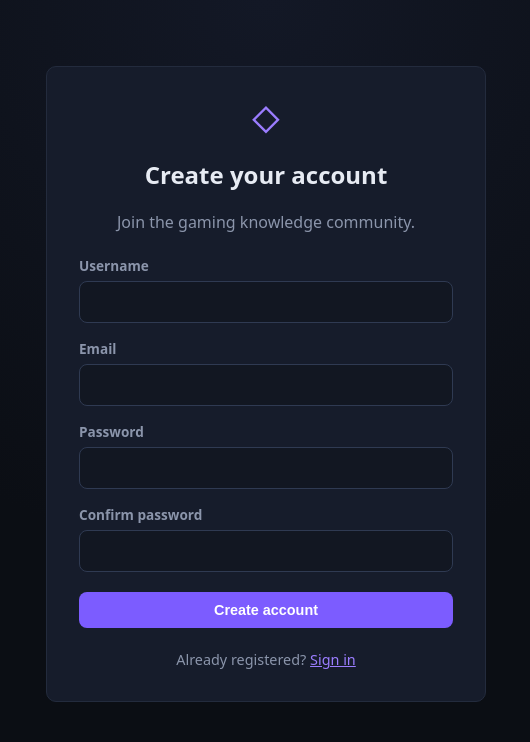
it: AuthPage - Registration Form › should show password mismatch error
Type "password123" into the password field labelled "Password".
click(266, 468); type("password123")  # box [79, 447, 453, 489]
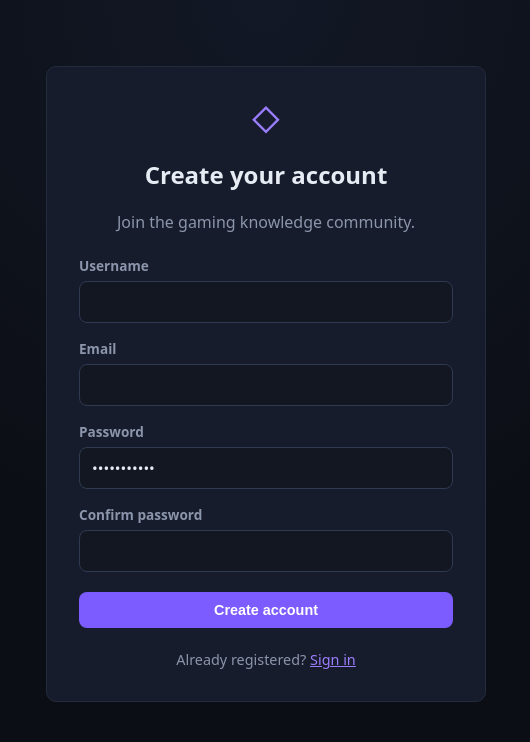
Type "different" into the password field labelled "Confirm password".
click(266, 551); type("different")  # box [79, 530, 453, 572]
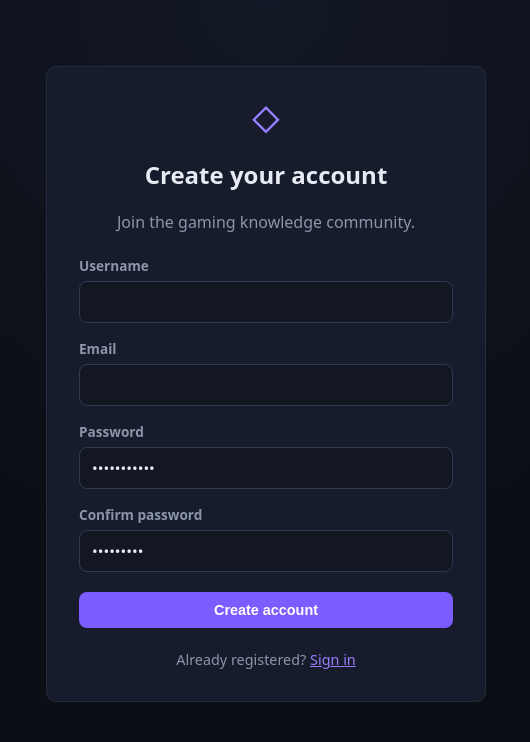
Submit the form labelled "Username Email Password Confirm password Create account", box [79, 256, 453, 628]
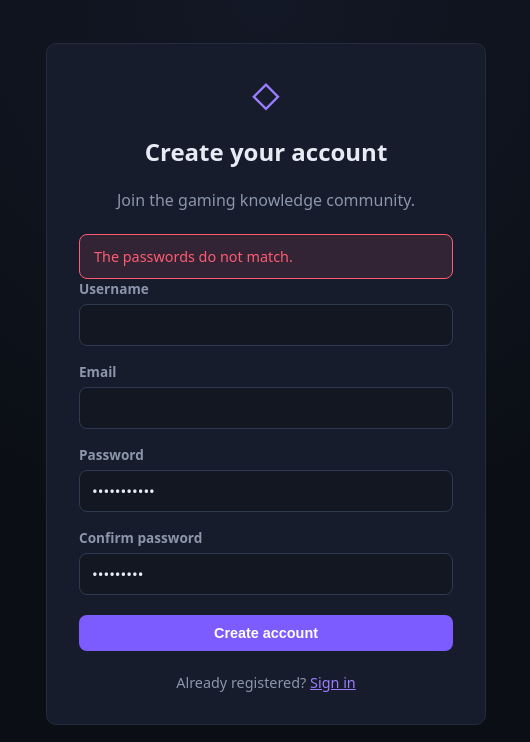
expect the message "The passwords do not match." is shown: met, box [79, 234, 453, 279]
expect the message reads "The passwords do not match.": met, box [94, 247, 293, 266]
